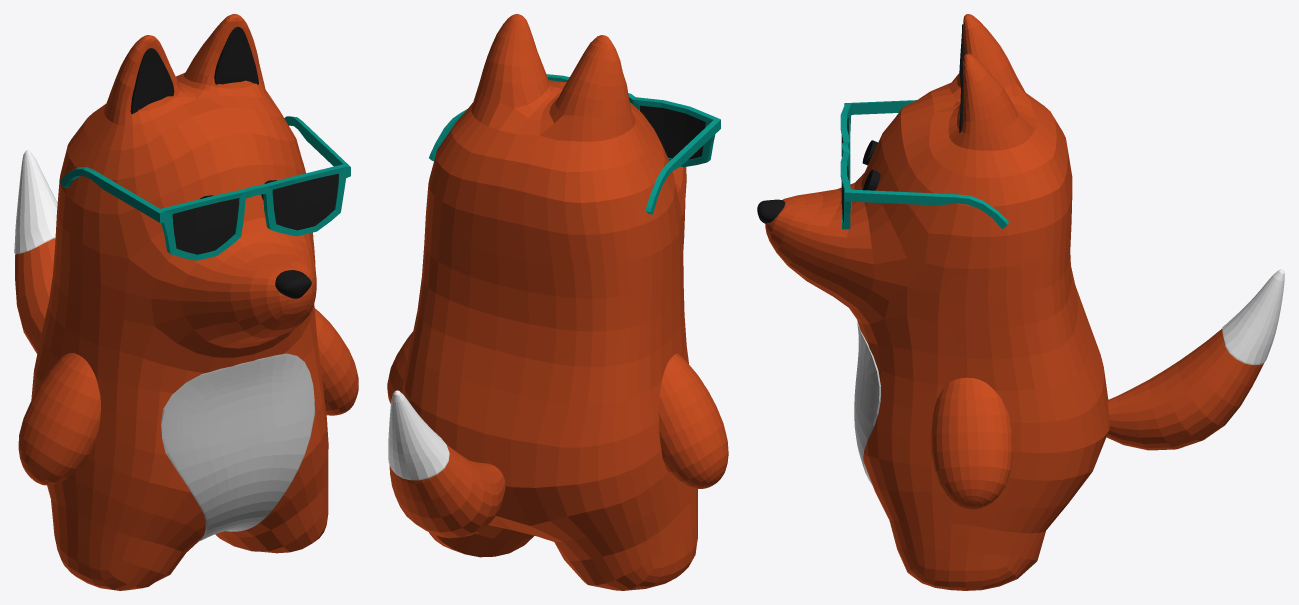
Rendered from konkon.fbx.
3 views of the same model, side by side, from view 1: azimuth 30°, elevation 25°; view 2: azimuth 150°, elevation 25°; view 3: azimuth 270°, elevation 25° (orthographic). The views are drawn at different scales.
Visible parts, largest first — view 1: Fox Body, Sunglasses_01_Plane; view 2: Fox Body, Sunglasses_01_Plane; view 3: Fox Body, Sunglasses_01_Plane.
Part boxes in pixels (<box>): Fox Body: <box>14,14,358,590</box>; Sunglasses_01_Plane: <box>60,116,350,260</box>; Fox Body: <box>387,14,728,590</box>; Sunglasses_01_Plane: <box>429,74,720,214</box>; Fox Body: <box>757,14,1284,590</box>; Sunglasses_01_Plane: <box>840,100,1008,229</box>.
Size of the model in its own units: 95.64 by 147 by 138.
